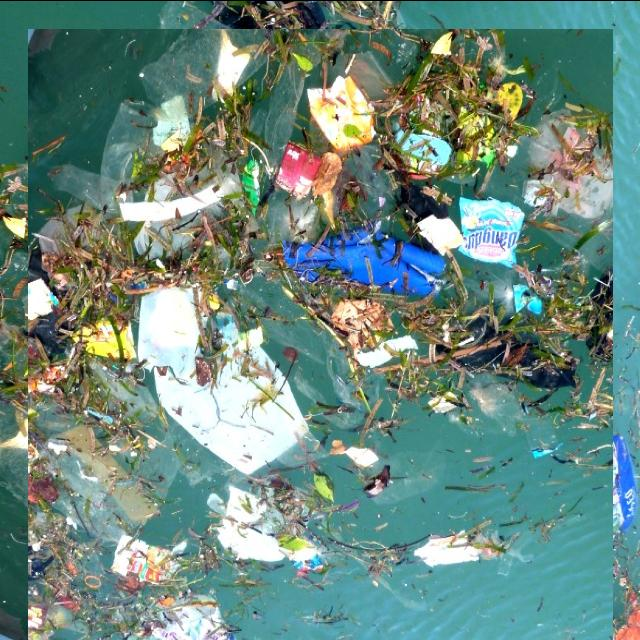garbage: (14, 41, 627, 640)
